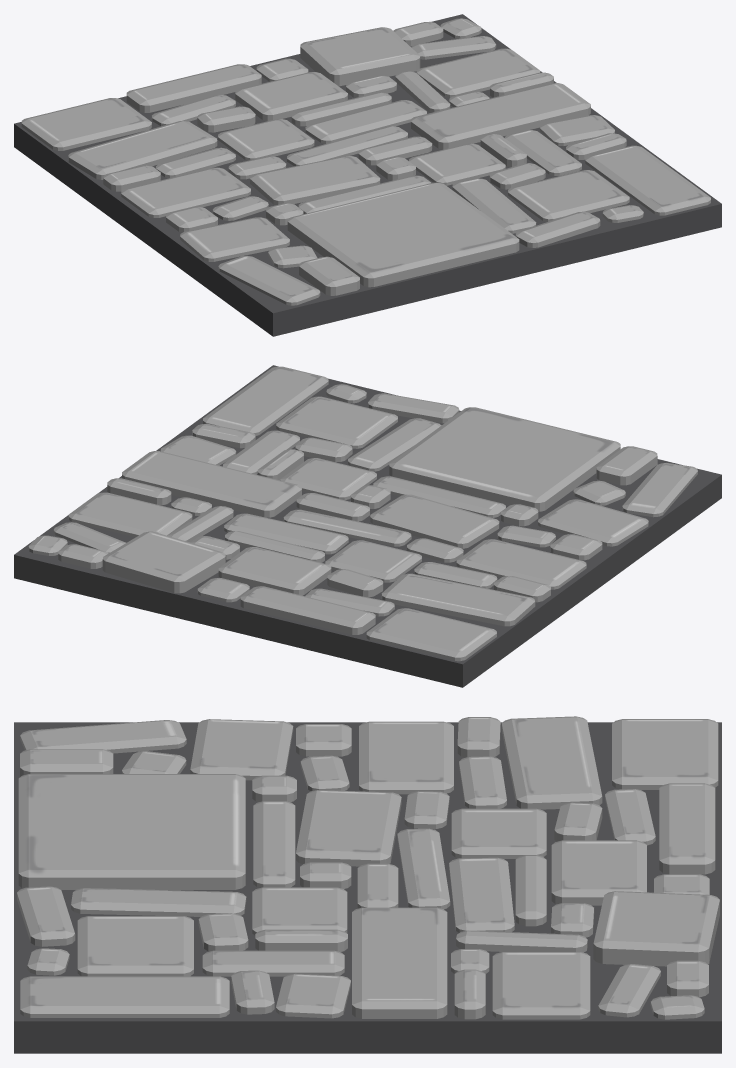
Rendered from Floor Textured.fbx.
3 renders of one model, top to bottom at view 1: azimuth 30°, elevation 25°; view 2: azimuth 150°, elevation 25°; view 3: azimuth 270°, elevation 25°, orthographic. The views are drawn at different scales.
Parts seen in each view (by area): view 1: Floor; view 2: Floor; view 3: Floor.
Part boxes in pixels (box(x1,y1,x2,y2)): Floor: box(14, 14, 721, 336); Floor: box(14, 365, 721, 687); Floor: box(14, 716, 721, 1053).
Bounding box in the file's own units: 10 × 0.7962 × 10.
